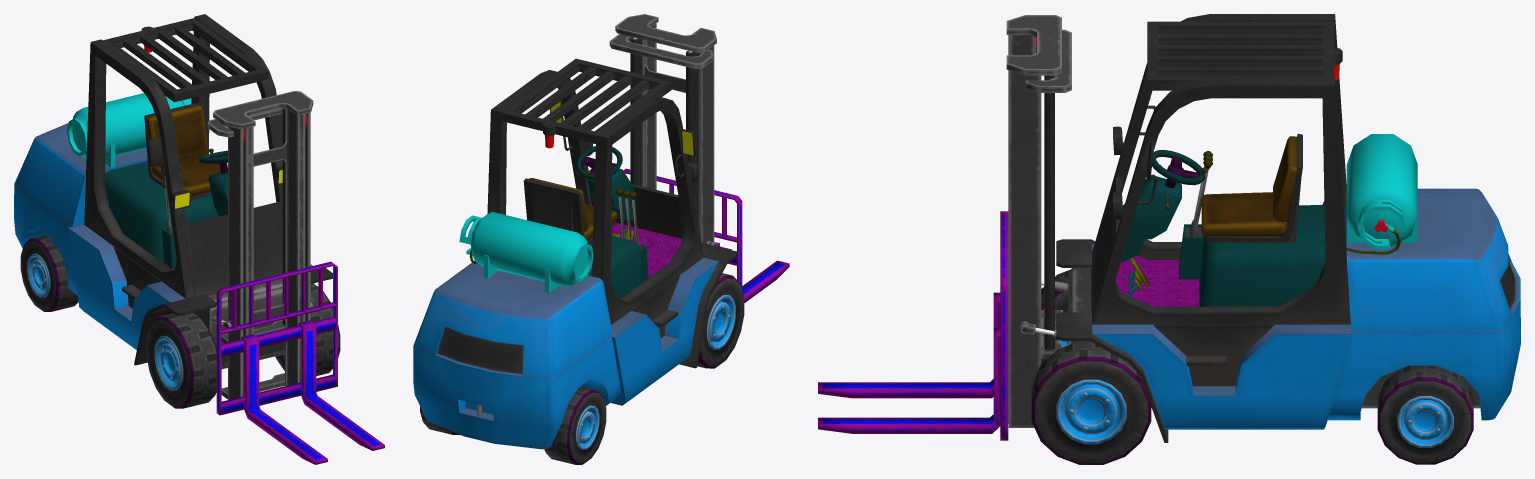
Rendered from ForkliftLPG.gltf.
The picture shows the model from 3 angles, left to right: view 1: azimuth 30°, elevation 25°; view 2: azimuth 150°, elevation 25°; view 3: azimuth 270°, elevation 25°; orthographic projection. The views are drawn at different scales.
Parts seen in each view (by area): view 1: Forklift_01, Forks, SecondaryMast, MainMast, FrontRightWheel_Mesh, RearRightWheel_Mesh, FrontLeftWheel_Mesh, SteeringWheel; view 2: Forklift_01, MainMast, SecondaryMast, RearRightWheel_Mesh, FrontRightWheel_Mesh, Forks, SteeringWheel; view 3: Forklift_01, MainMast, FrontLeftWheel_Mesh, Forks, RearLeftWheel_Mesh, SecondaryMast, SteeringWheel.
Boxes of the visible parts, left/top/right/bottom form: Forklift_01: left=14, top=14, right=332, bottom=369; Forks: left=216, top=261, right=384, bottom=464; SecondaryMast: left=213, top=91, right=313, bottom=396; MainMast: left=207, top=108, right=310, bottom=399; FrontRightWheel_Mesh: left=146, top=313, right=216, bottom=408; RearRightWheel_Mesh: left=20, top=234, right=78, bottom=311; FrontLeftWheel_Mesh: left=275, top=283, right=340, bottom=375; SteeringWheel: left=199, top=148, right=227, bottom=173; Forklift_01: left=413, top=58, right=737, bottom=449; MainMast: left=609, top=34, right=714, bottom=243; SecondaryMast: left=615, top=14, right=716, bottom=189; RearRightWheel_Mesh: left=544, top=386, right=606, bottom=464; FrontRightWheel_Mesh: left=697, top=273, right=744, bottom=368; Forks: left=623, top=168, right=789, bottom=302; SteeringWheel: left=576, top=146, right=622, bottom=179; Forklift_01: left=1020, top=14, right=1520, bottom=442; MainMast: left=1008, top=29, right=1071, bottom=427; FrontLeftWheel_Mesh: left=1031, top=341, right=1151, bottom=464; Forks: left=818, top=211, right=1008, bottom=440; RearLeftWheel_Mesh: left=1377, top=365, right=1473, bottom=464; SecondaryMast: left=1006, top=15, right=1061, bottom=423; SteeringWheel: left=1152, top=150, right=1207, bottom=188.
Bounding box in the file's own units: 1.32 × 2.35 × 3.96.
Materials: 4 (3 with a texture image).
